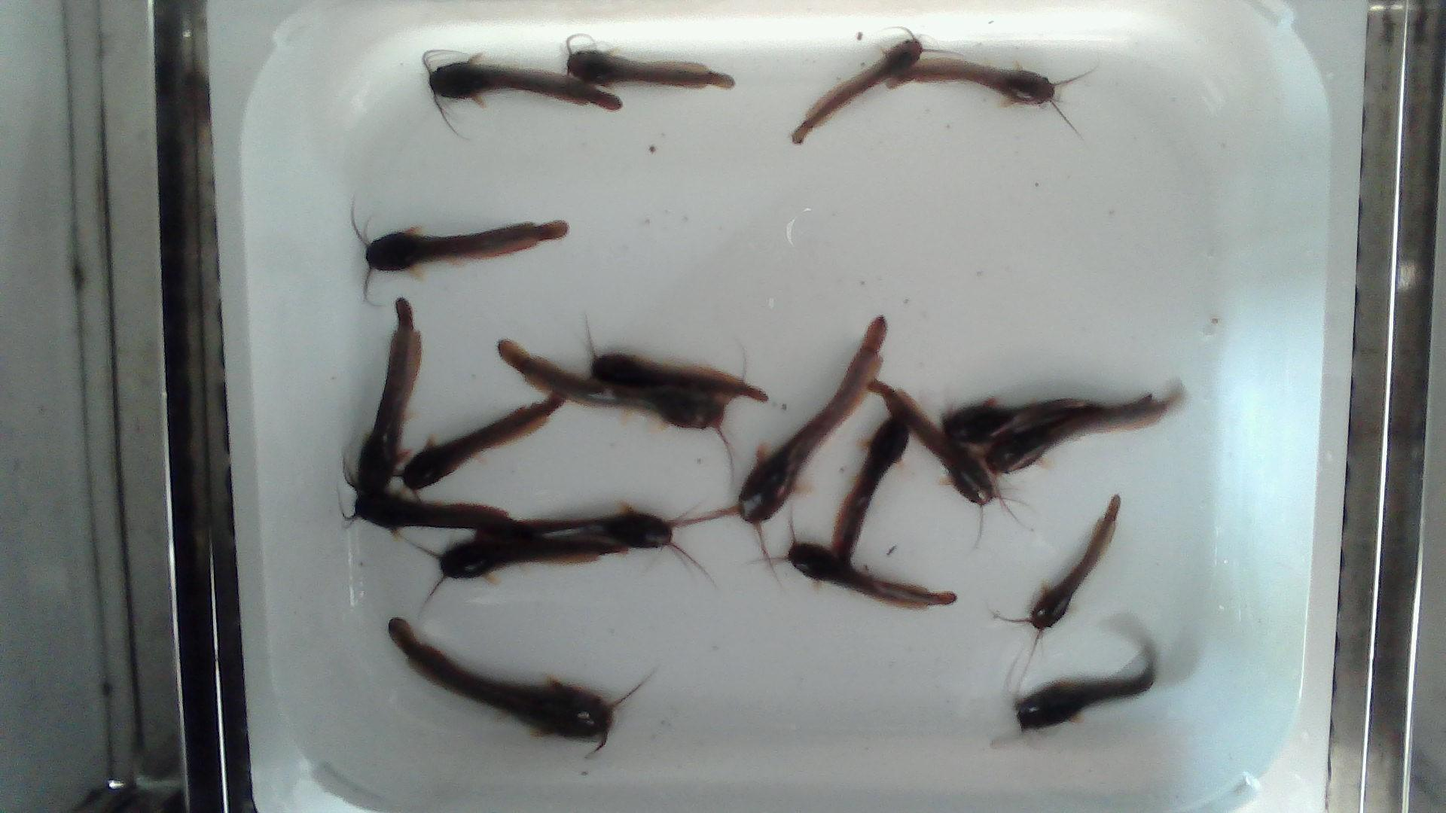lele: (690, 318, 886, 556), (388, 617, 643, 748), (499, 338, 734, 444), (790, 27, 946, 144), (996, 495, 1120, 637), (867, 380, 1005, 507), (986, 390, 1178, 479), (585, 315, 771, 404), (423, 50, 622, 132), (774, 527, 958, 611), (403, 394, 565, 489), (1005, 641, 1158, 741), (885, 59, 1091, 128), (340, 461, 513, 542), (357, 300, 420, 494), (830, 419, 910, 564), (423, 540, 628, 593), (471, 499, 684, 550), (358, 221, 568, 271), (567, 34, 734, 88), (940, 395, 1106, 446)
